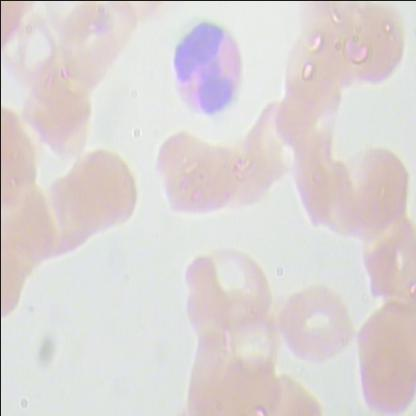RBC: (14, 66, 102, 164), (154, 127, 242, 224), (328, 144, 416, 240), (354, 295, 416, 415), (198, 243, 274, 333), (268, 72, 344, 162), (276, 282, 354, 364), (72, 146, 138, 238), (55, 1, 122, 90), (344, 3, 406, 90)
WBC: (166, 20, 247, 126)
